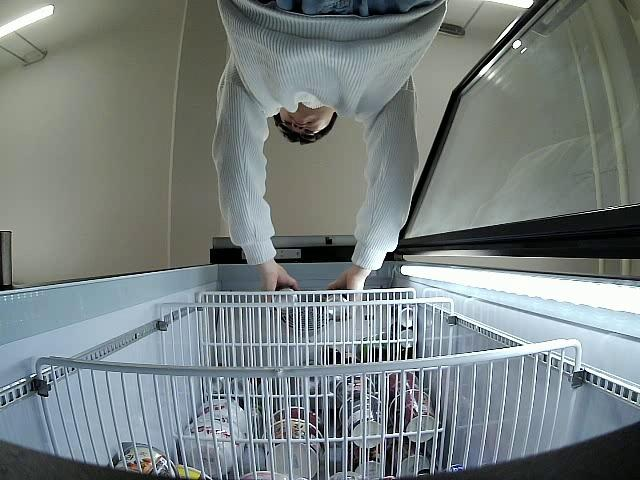00_hand: (326, 273, 364, 317), (262, 270, 299, 309)
14_welchsGrape: (272, 283, 299, 313), (324, 289, 349, 319)
